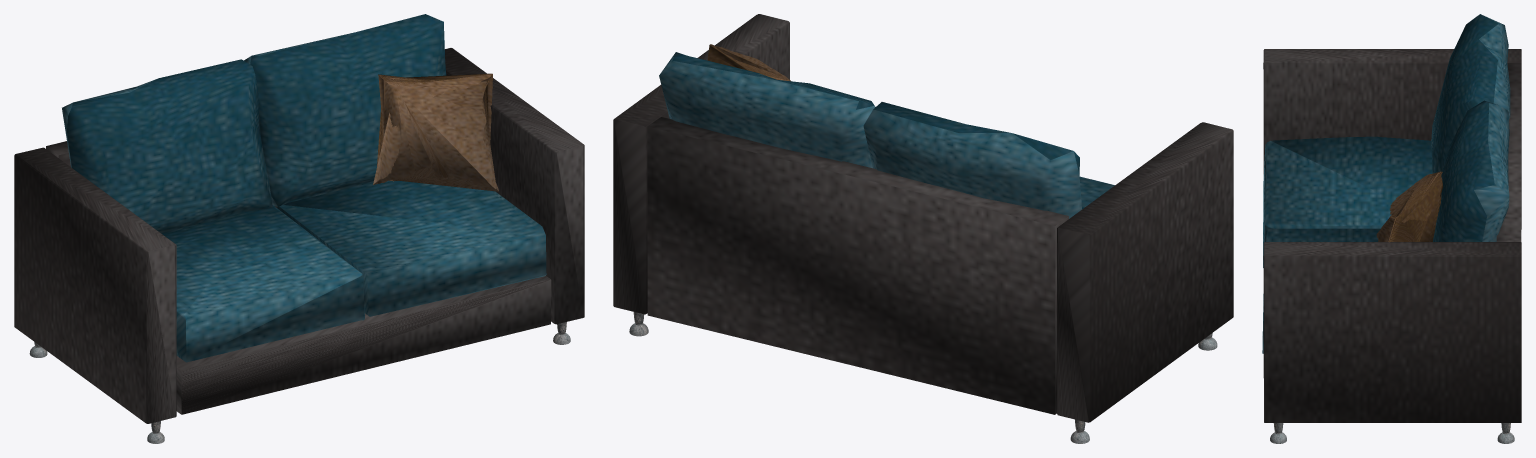
The model's file is couch.fbx.
3 views of the same model, side by side, from view 1: azimuth 30°, elevation 25°; view 2: azimuth 150°, elevation 25°; view 3: azimuth 270°, elevation 25° (orthographic). The views are drawn at different scales.
Parts seen in each view (by area): view 1: sides.001, Back cousion.004, seat cousion.003, Back cousion.003, seat cousion.004, bottom.001, pillow, legs.001; view 2: back.001, sides.001, Back cousion.004, Back cousion.003, pillow, legs.001, seat cousion.004; view 3: sides.001, seat cousion.004, Back cousion.003, Back cousion.004, pillow, back.001, seat cousion.003, legs.001.
Part boxes in pixels (x1,y1,x2,y2): sides.001: (14, 48, 584, 423); Back cousion.004: (62, 59, 272, 233); seat cousion.003: (277, 180, 546, 316); Back cousion.003: (244, 14, 446, 206); seat cousion.004: (162, 205, 364, 362); bottom.001: (176, 276, 551, 414); pillow: (373, 73, 498, 191); legs.001: (29, 322, 570, 443); back.001: (647, 117, 1068, 414); sides.001: (613, 14, 1233, 422); Back cousion.004: (863, 102, 1082, 218); Back cousion.003: (659, 52, 875, 168); pillow: (707, 44, 790, 81); legs.001: (629, 312, 1217, 443); seat cousion.004: (1079, 176, 1114, 208); sides.001: (1263, 49, 1521, 422); seat cousion.004: (1263, 136, 1432, 267); Back cousion.003: (1433, 100, 1509, 241); Back cousion.004: (1431, 14, 1510, 173); pillow: (1376, 171, 1443, 242); back.001: (1496, 63, 1521, 241); seat cousion.003: (1262, 228, 1380, 353); legs.001: (1270, 423, 1514, 443).
Size of the model in its own units: 142 by 78.44 by 74.94.
Materials: 4 (4 with a texture image).
